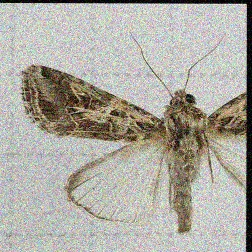Spodoptera litura: (17, 29, 245, 233)
